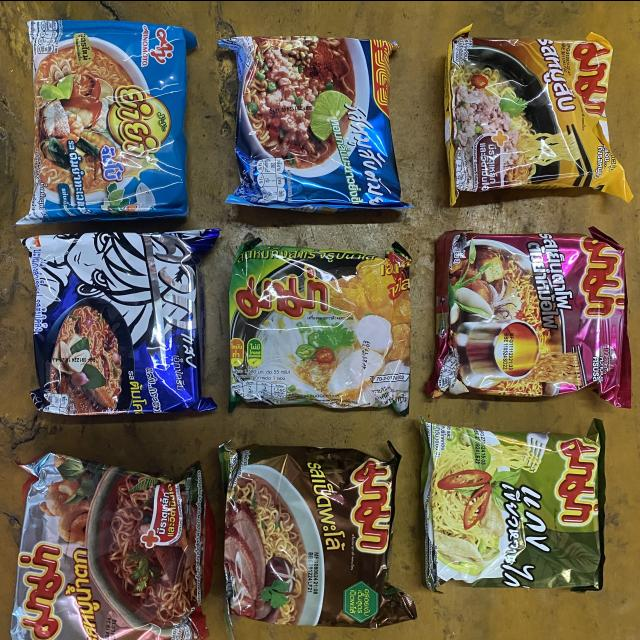plastik: (11, 452, 215, 640), (219, 441, 416, 628), (426, 227, 631, 406), (18, 19, 196, 224), (23, 228, 219, 414), (444, 25, 632, 204), (219, 36, 410, 211), (420, 418, 606, 592), (230, 237, 411, 414)
